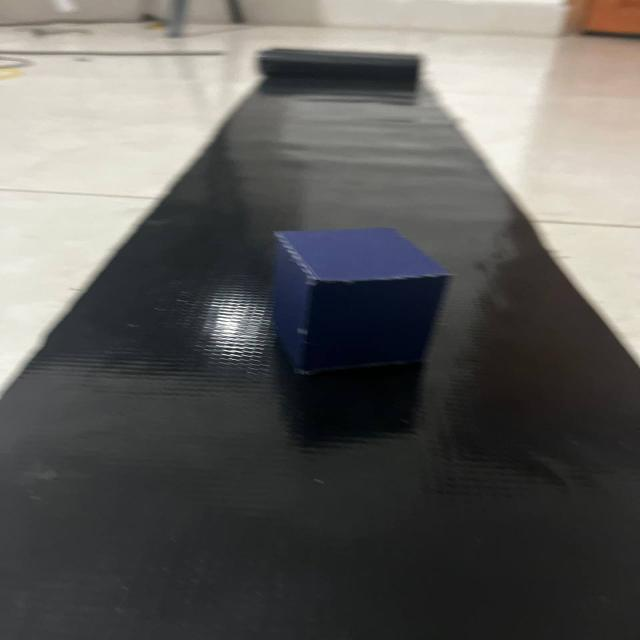Azul: (250, 210, 455, 398)
